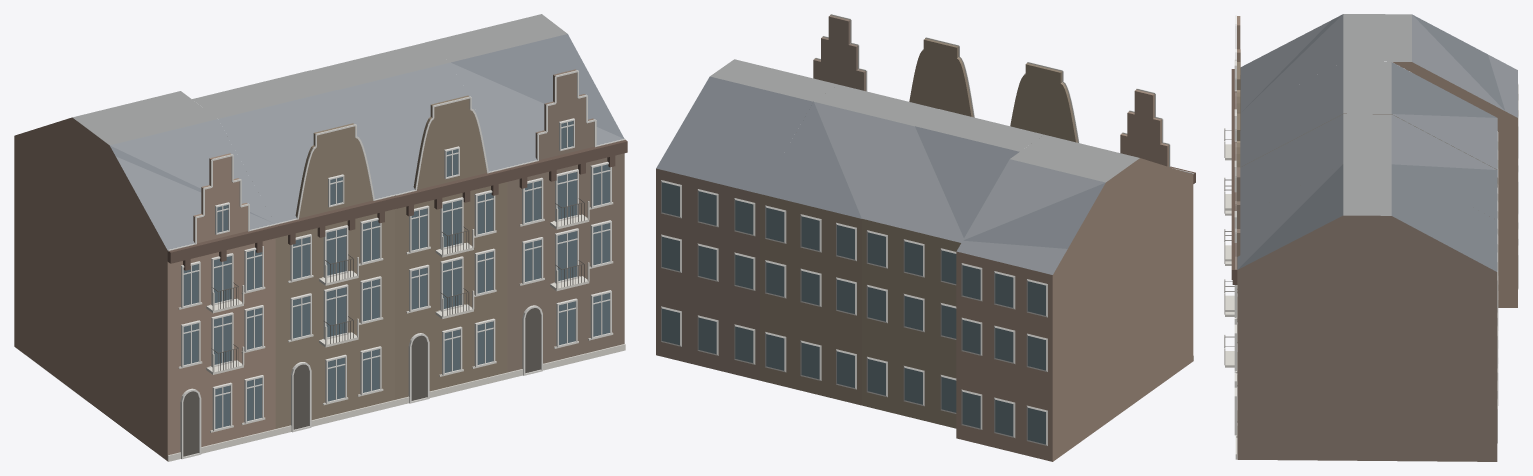
The model's file is chunk-face-bree-107-149-r1.glb.
3 renders of one model, left to right at view 1: azimuth 30°, elevation 25°; view 2: azimuth 150°, elevation 25°; view 3: azimuth 270°, elevation 25°, orthographic. The views are drawn at different scales.
Visible parts, largest first — view 1: face-bree-107-149-r1; view 2: face-bree-107-149-r1; view 3: face-bree-107-149-r1.
Boxes of the visible parts, x1,y1,x2,y2 form: face-bree-107-149-r1: (14, 14, 627, 461); face-bree-107-149-r1: (656, 14, 1195, 461); face-bree-107-149-r1: (1224, 14, 1518, 461).
Size of the model in its own units: 23.82 by 14.38 by 14.6.
